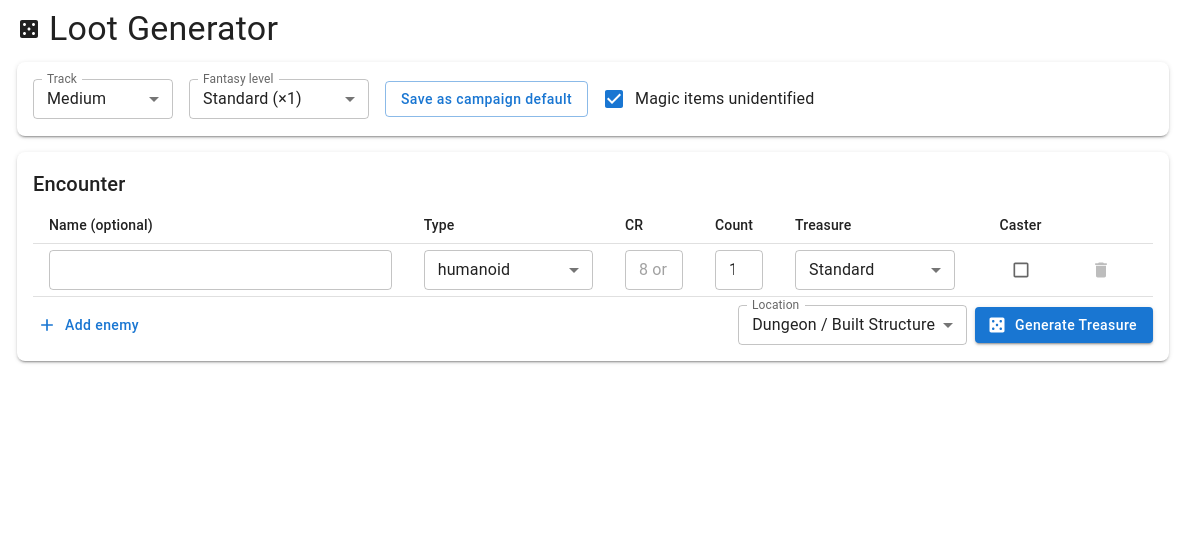
Test case: LootGenerator › NPC gear value source › appears once NPC Gear is chosen, defaulting to the NPC table, with a line of help
This screenshot has width=1187, height=552.
Press the mouse on the dropdown named "treasure type" at x=842, y=270, box [809, 260, 874, 279]
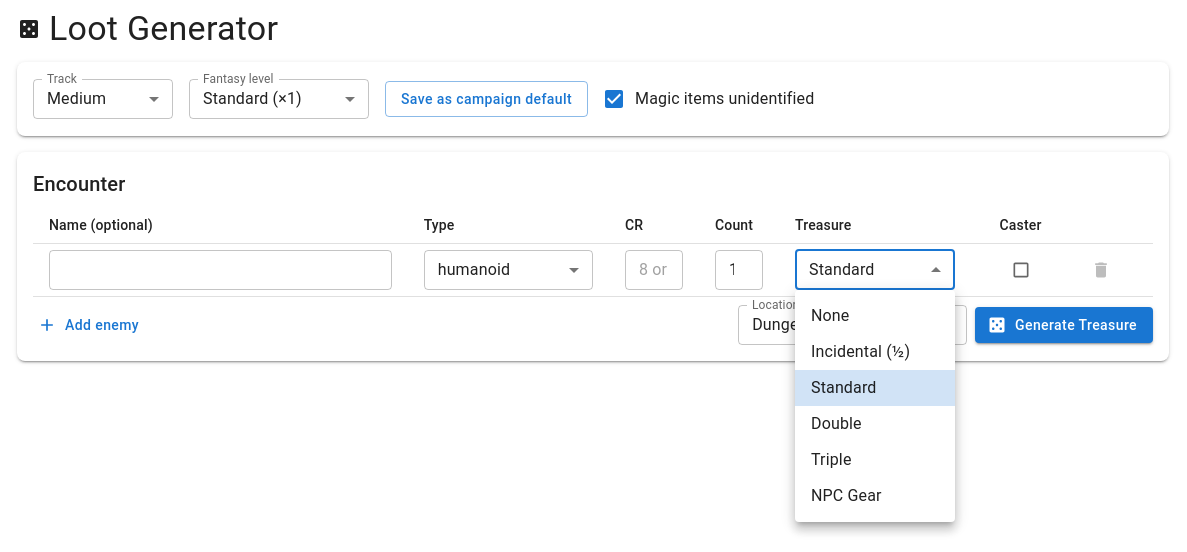
Click the option "NPC Gear" at x=846, y=496, box [811, 486, 882, 505]
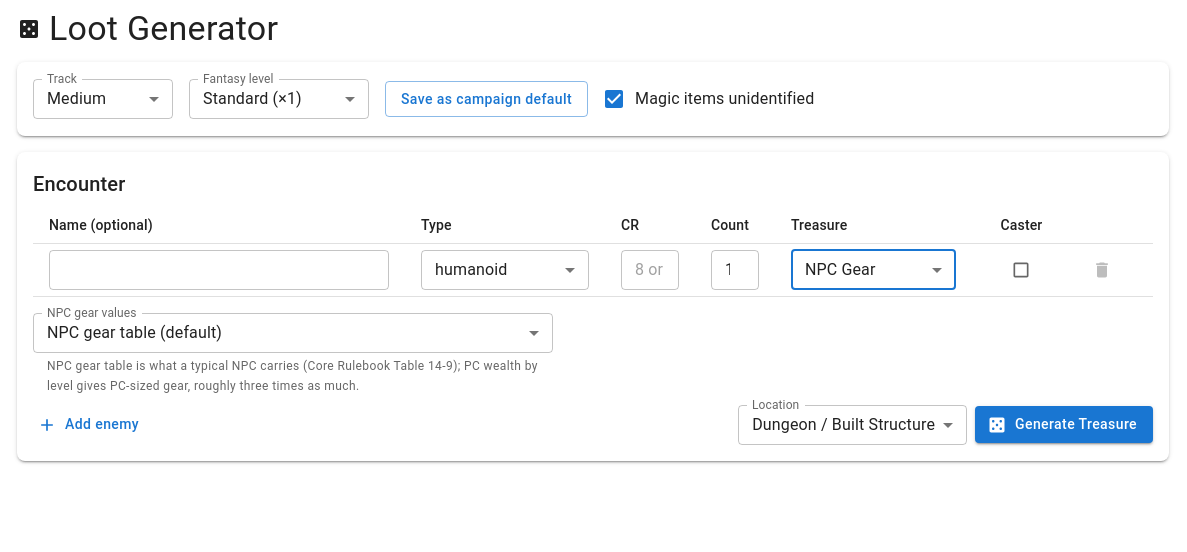
Result: the dropdown named "NPC gear values" reads "NPC gear table (default)" at [47, 323, 222, 342]
Result: the text "PC wealth by level" is shown at [47, 359, 538, 393]
